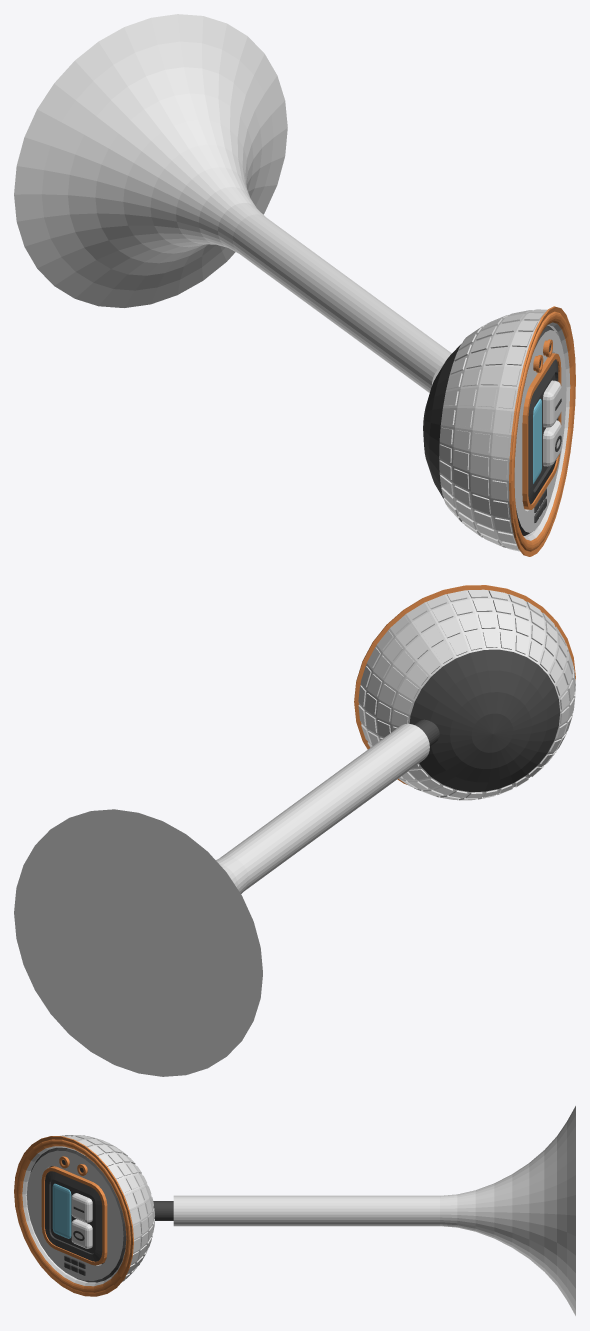
Rendered from AccessTerminal_240827.fbx.
3 renders of one model, top to bottom at view 1: azimuth 30°, elevation 25°; view 2: azimuth 150°, elevation 25°; view 3: azimuth 270°, elevation 25°, orthographic. The views are drawn at different scales.
Visible parts, largest first — view 1: AccessTerminal_LOD0, Terminal-Display, Ziffernblock.001, Display; view 2: AccessTerminal_LOD0, Terminal-Display; view 3: AccessTerminal_LOD0, Terminal-Display, Display, Ziffernblock.001, Ziffernblock, SpeakerHydraulic.001.
Part boxes in pixels (x1=…): AccessTerminal_LOD0: x1=14, y1=14, x2=451, y2=392; Terminal-Display: x1=423, y1=306, x2=575, y2=556; Ziffernblock.001: x1=543, y1=380, x2=561, y2=427; Display: x1=533, y1=399, x2=541, y2=483; AccessTerminal_LOD0: x1=14, y1=723, x2=429, y2=1076; Terminal-Display: x1=354, y1=585, x2=575, y2=800; AccessTerminal_LOD0: x1=173, y1=1106, x2=575, y2=1315; Terminal-Display: x1=14, y1=1135, x2=154, y2=1296; Display: x1=52, y1=1183, x2=71, y2=1238; Ziffernblock.001: x1=71, y1=1193, x2=92, y2=1222; Ziffernblock: x1=71, y1=1219, x2=92, y2=1248; SpeakerHydraulic.001: x1=153, y1=1201, x2=173, y2=1220.
Size of what is drawn, in the model's own units: 2.08 by 2.08 by 5.52.
